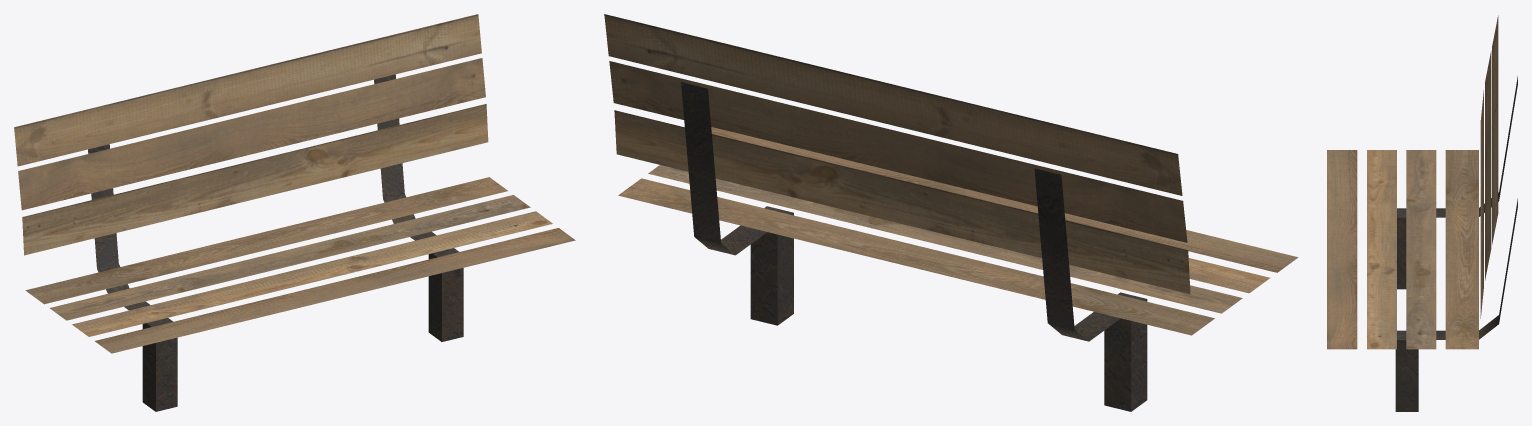
File: bench_lowpoly.fbx
The picture shows the model from 3 angles, left to right: view 1: azimuth 30°, elevation 25°; view 2: azimuth 150°, elevation 25°; view 3: azimuth 270°, elevation 25°; orthographic projection. The views are drawn at different scales.
Visible parts, largest first — view 1: Cube.001; view 2: Cube.001; view 3: Cube.001.
Boxes of the visible parts, x1,y1,x2,y2 form: Cube.001: [14, 14, 575, 411]; Cube.001: [604, 14, 1298, 411]; Cube.001: [1327, 15, 1517, 411].
Bounding box in the file's own units: 637 × 344 × 258.
